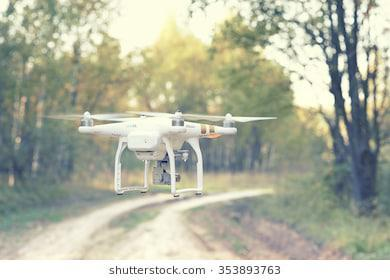drone: (48, 107, 278, 200)
